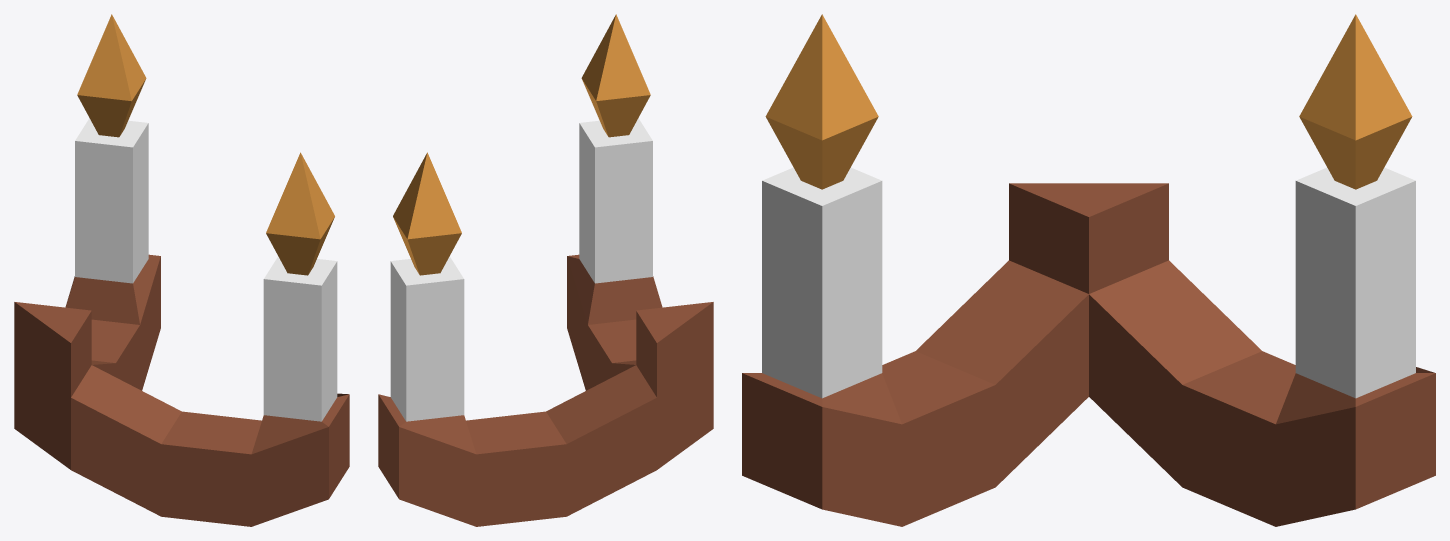
The model's file is LightWall_0.5x1x2.fbx.
3 renders of one model, left to right at view 1: azimuth 30°, elevation 25°; view 2: azimuth 150°, elevation 25°; view 3: azimuth 270°, elevation 25°, orthographic. The views are drawn at different scales.
Visible parts, largest first — view 1: LightWall_0.5x1x2; view 2: LightWall_0.5x1x2; view 3: LightWall_0.5x1x2.
Boxes of the visible parts, box(x1,y1,x2,y2) form: LightWall_0.5x1x2: box(14, 14, 349, 526); LightWall_0.5x1x2: box(378, 14, 713, 526); LightWall_0.5x1x2: box(742, 14, 1435, 526).
Size of the model in its own units: 24.51 by 40 by 49.03.
